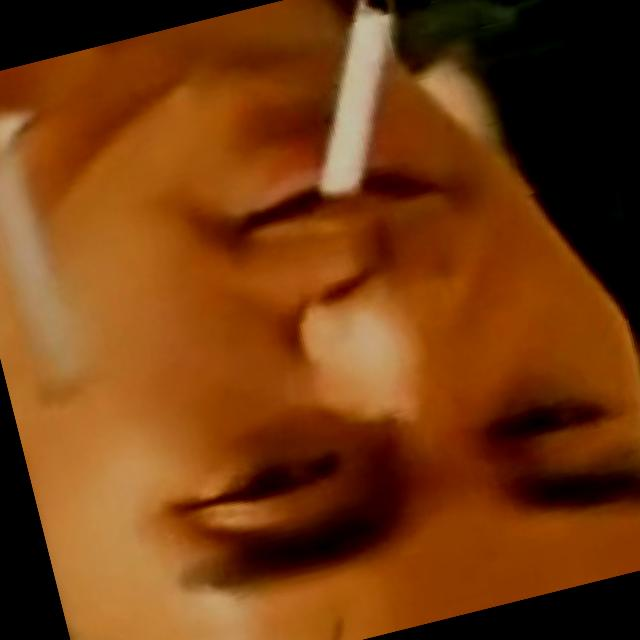cigarette: (268, 0, 442, 202)
